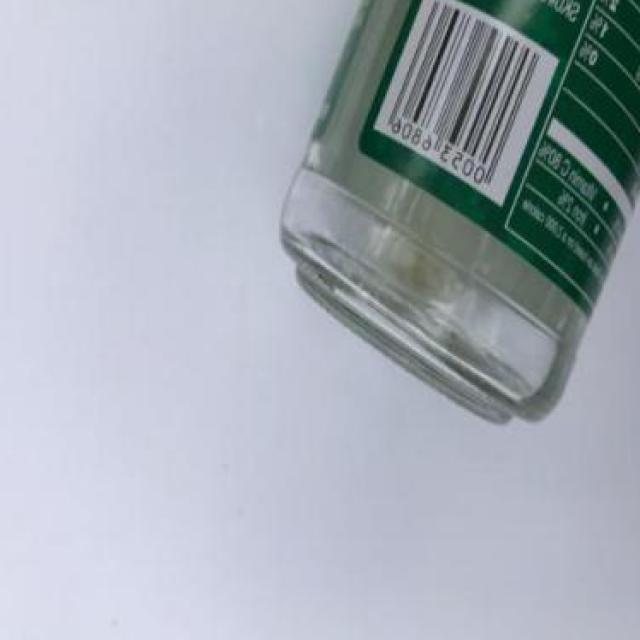kaca: (279, 0, 640, 426)
